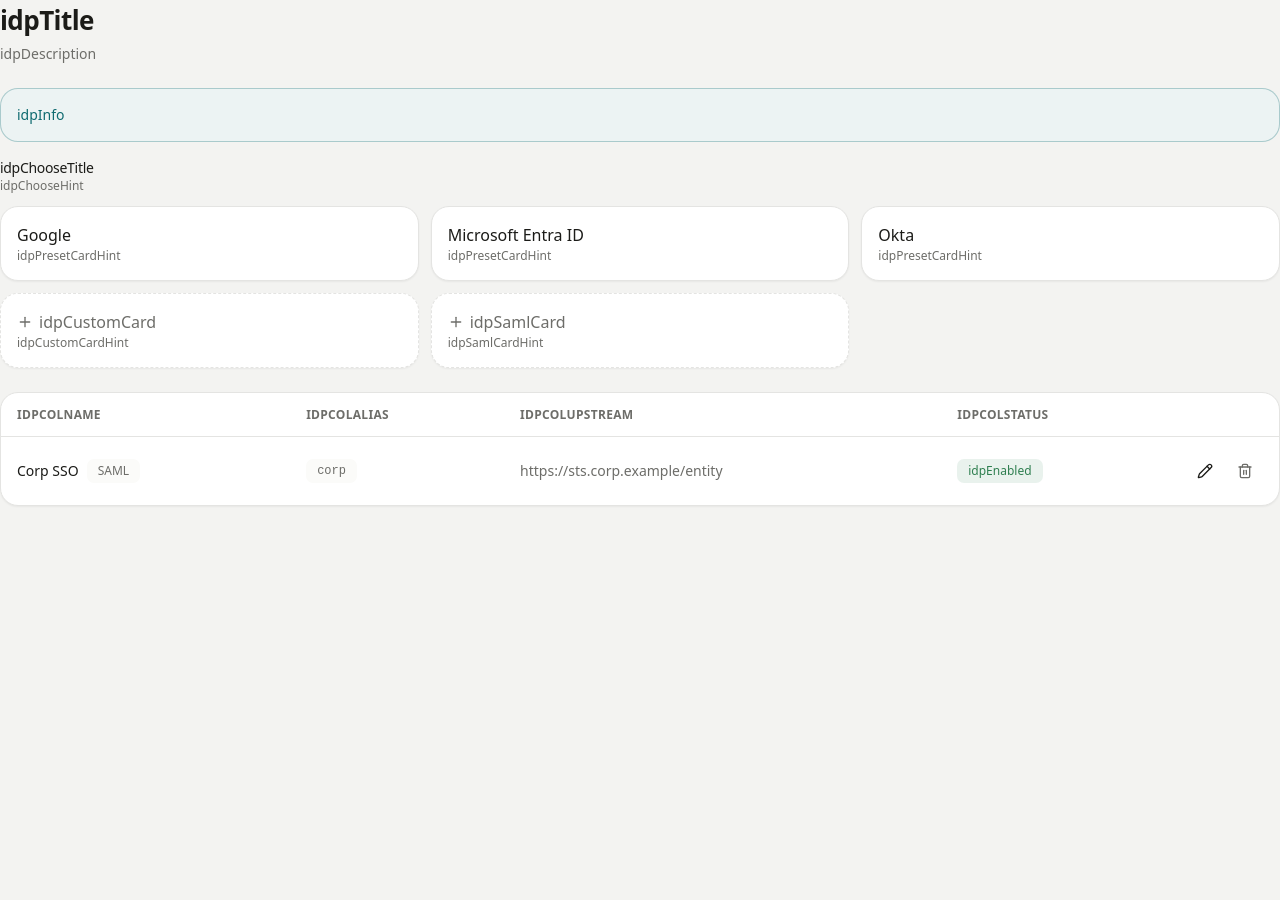
Test: IdentityProviders › shows the SAML fields when editing a SAML connection
Check: the text "Corp SSO" is shown, box [17,461,79,480]
Click the 6th button. click: click(1205, 471)
box: [1187,453,1223,489]
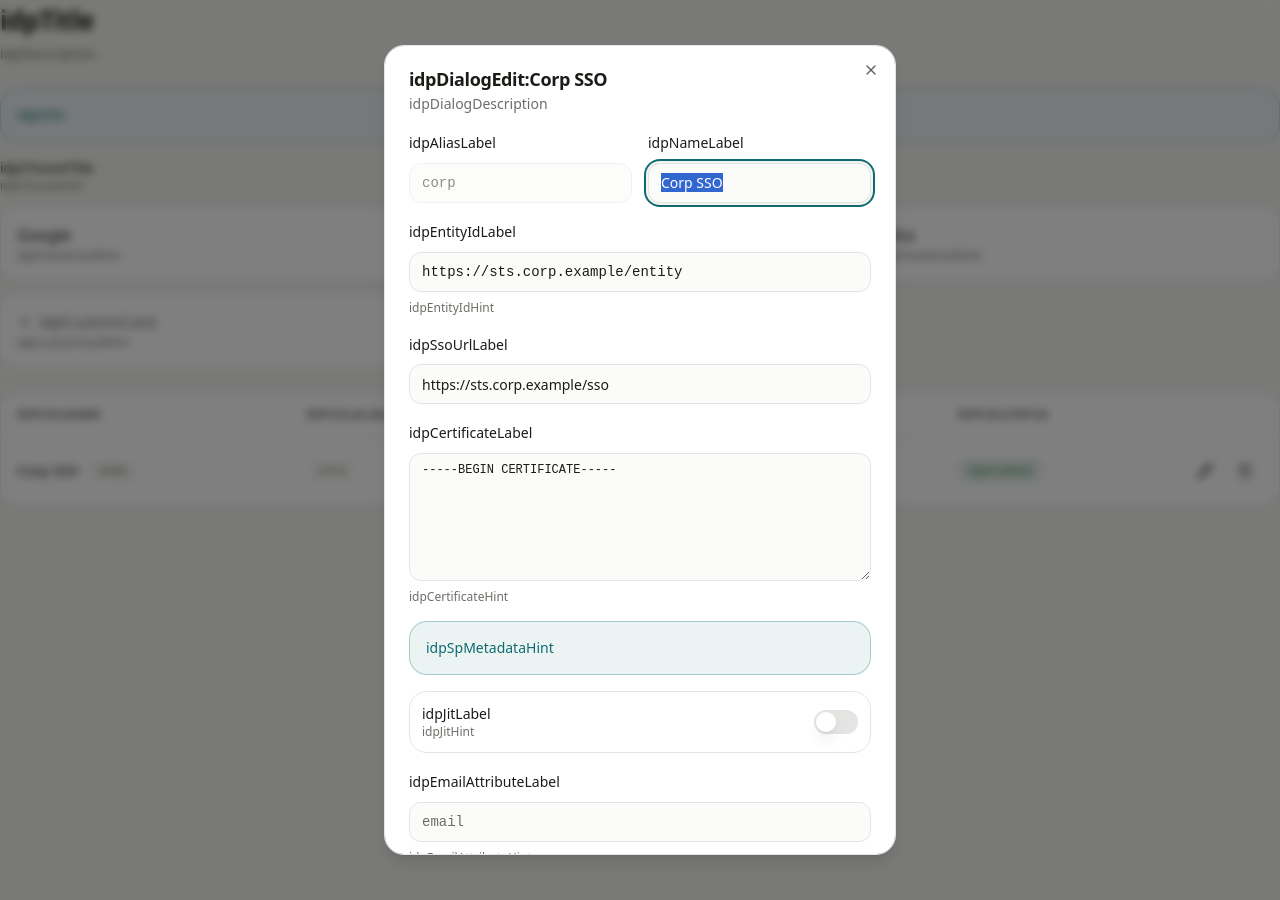
Check: the field labelled "idpEntityIdLabel" holds "https://sts.corp.example/entity", box [409,252,871,292]
